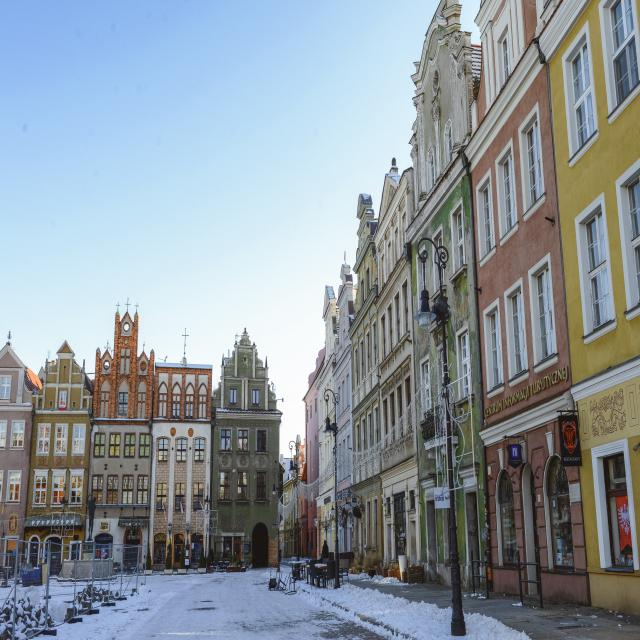Street Light: (414, 237, 467, 636), (322, 389, 340, 589), (289, 441, 301, 576), (270, 467, 281, 574)
